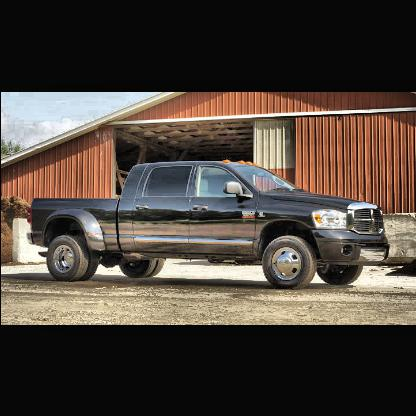Dodge Ram Pickup 3500 Quad Cab 2009: (28, 161, 391, 289)
